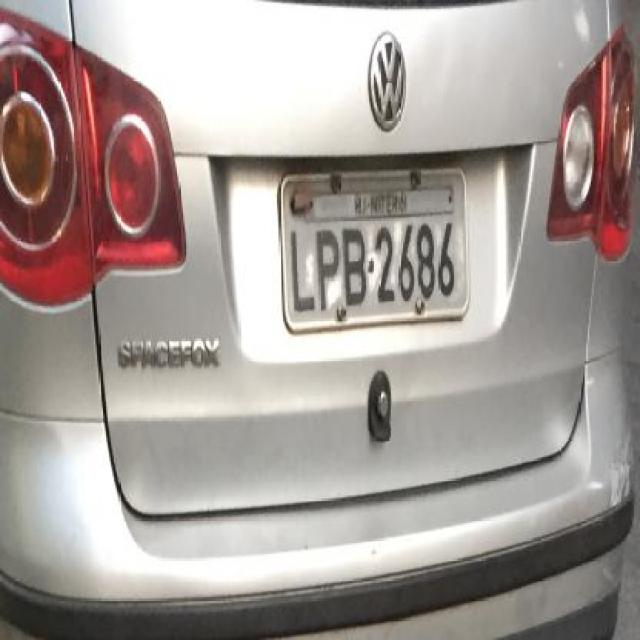old_plate: (270, 159, 476, 339)
